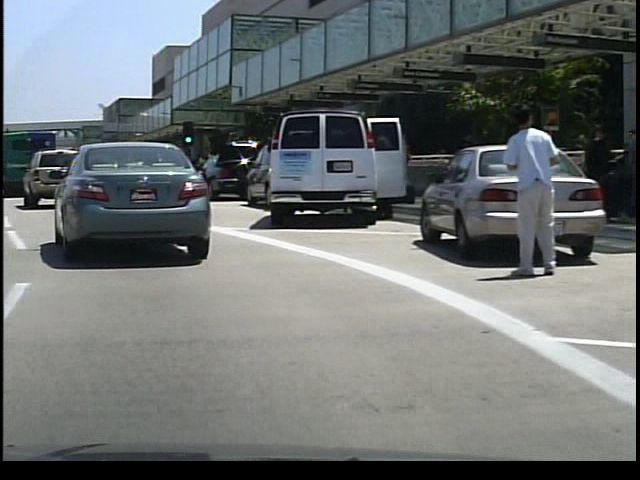person: (499, 100, 560, 280), (577, 117, 610, 226), (621, 117, 638, 222), (394, 130, 417, 206)
